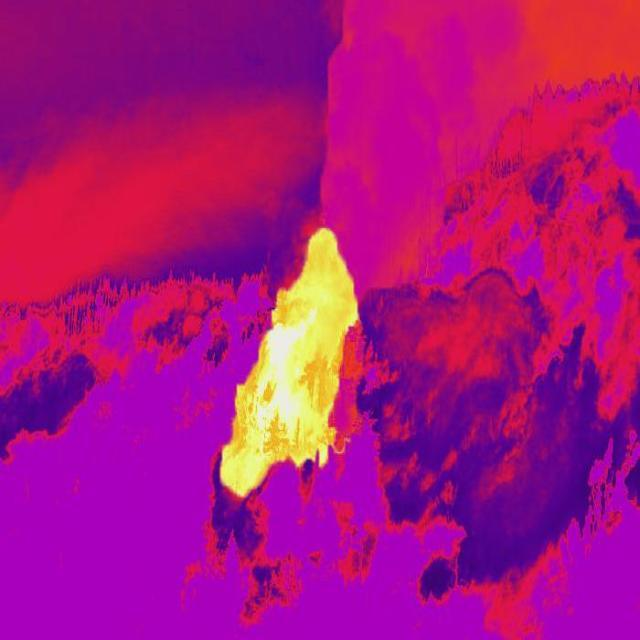fire: (207, 219, 373, 520)
